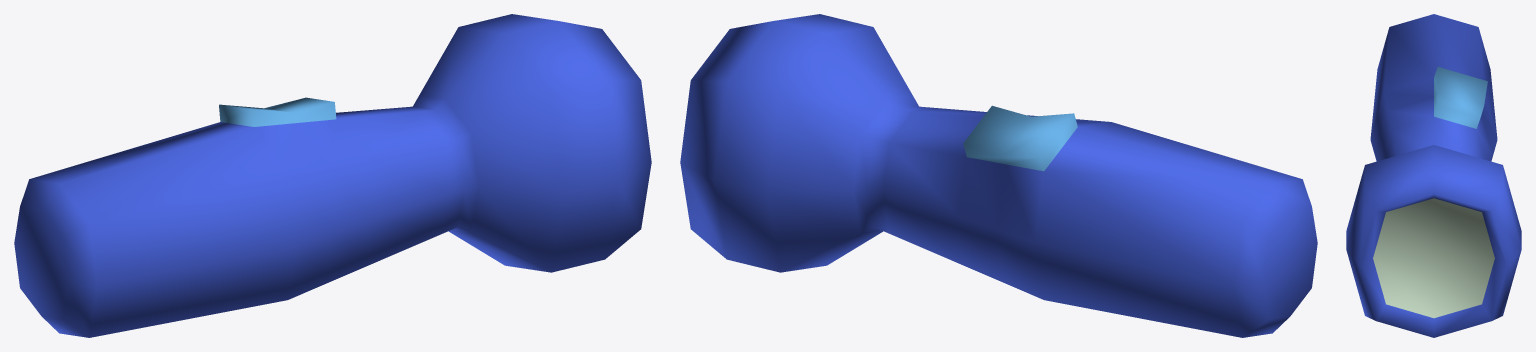
Rendered from Flashlight.fbx.
3 views of the same model, side by side, from view 1: azimuth 30°, elevation 25°; view 2: azimuth 150°, elevation 25°; view 3: azimuth 270°, elevation 25° (orthographic). The views are drawn at different scales.
Parts seen in each view (by area): view 1: Cube.082; view 2: Cube.082; view 3: Cube.082.
Part boxes in pixels (left/top/right/bottom): Cube.082: left=14, top=14, right=651, bottom=337; Cube.082: left=680, top=14, right=1317, bottom=337; Cube.082: left=1346, top=14, right=1521, bottom=337.
Size of the model in its own units: 28.12 by 11.1 by 10.26.
